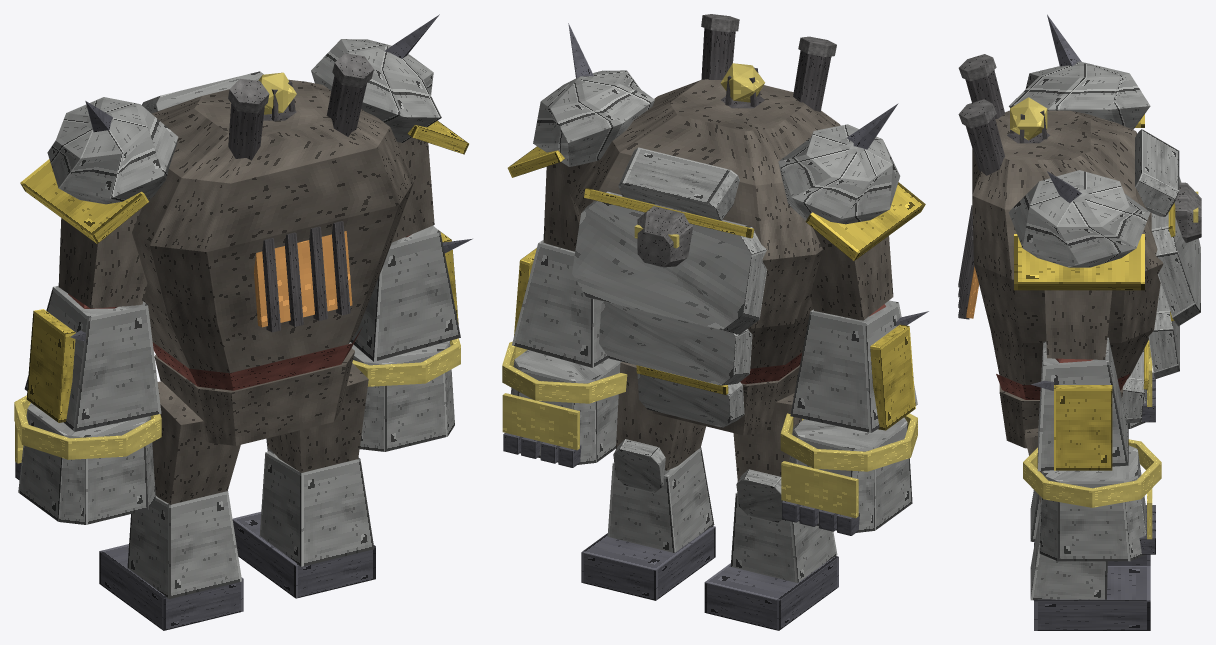
Rendered from enemy_bastion.gltf.
The picture shows the model from 3 angles, left to right: view 1: azimuth 30°, elevation 25°; view 2: azimuth 150°, elevation 25°; view 3: azimuth 270°, elevation 25°; orthographic projection. The views are drawn at different scales.
Parts seen in each view (by area): view 1: torso, armor, shin_r, forearm_l, shin_l, forearm_r, fist_l, pelvis, fist_r, thigh_l, upper_arm_l, thigh_r (+5 smaller); view 2: armor, torso, shin_r, shin_l, forearm_l, forearm_r, fist_l, lamp_l, fist_r, lamp_r, upper_arm_l, thigh_r (+5 smaller); view 3: armor, torso, forearm_r, shin_r, fist_r, upper_arm_r, lamp_r, pelvis, head, beacon, shin_l, fist_l (+1 smaller).
Boxes of the visible parts, bbox=[...] form: torso: bbox=[132, 53, 414, 390]; armor: bbox=[20, 14, 468, 243]; shin_r: bbox=[232, 438, 375, 598]; forearm_l: bbox=[24, 285, 161, 431]; shin_l: bbox=[99, 491, 243, 630]; forearm_r: bbox=[350, 225, 472, 361]; fist_l: bbox=[15, 403, 155, 524]; pelvis: bbox=[154, 348, 354, 445]; fist_r: bbox=[349, 341, 454, 451]; thigh_l: bbox=[152, 381, 240, 504]; upper_arm_l: bbox=[58, 208, 147, 308]; thigh_r: bbox=[267, 363, 368, 472]; armor: bbox=[507, 23, 925, 427]; torso: bbox=[570, 14, 840, 384]; shin_r: bbox=[581, 439, 715, 600]; shin_l: bbox=[704, 469, 838, 630]; forearm_l: bbox=[790, 300, 928, 432]; forearm_r: bbox=[512, 240, 608, 367]; fist_l: bbox=[782, 417, 912, 535]; lamp_l: bbox=[780, 413, 917, 518]; fist_r: bbox=[503, 350, 621, 467]; lamp_r: bbox=[502, 341, 627, 450]; upper_arm_l: bbox=[810, 228, 893, 320]; thigh_r: bbox=[616, 361, 705, 470]; armor: bbox=[1008, 14, 1200, 423]; torso: bbox=[958, 54, 1163, 399]; forearm_r: bbox=[1031, 337, 1128, 471]; shin_r: bbox=[1030, 511, 1150, 630]; fist_r: bbox=[1039, 445, 1155, 561]; upper_arm_r: bbox=[1044, 290, 1112, 362]; lamp_r: bbox=[1023, 439, 1161, 539]; pelvis: bbox=[999, 384, 1123, 448]; head: bbox=[1174, 182, 1201, 242]; beacon: bbox=[1010, 97, 1047, 140]; shin_l: bbox=[1030, 490, 1150, 565]; fist_l: bbox=[1127, 372, 1155, 428].
Size of the model in its own units: 2.48 by 3.05 by 1.34.
Materials: 19 (19 with a texture image).
